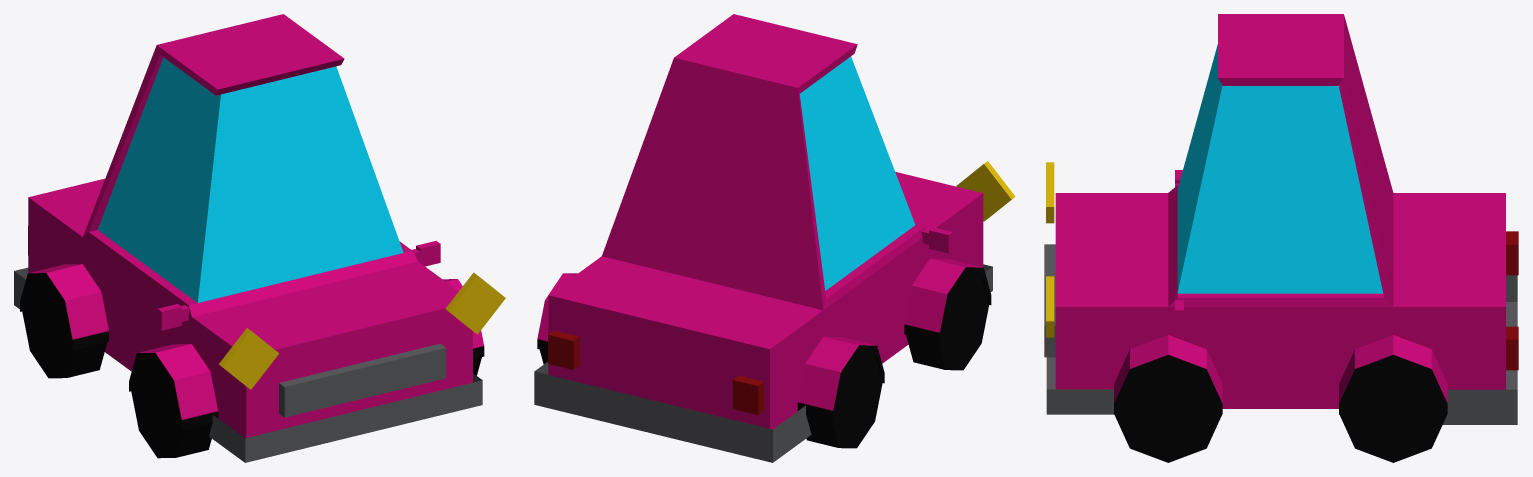
The model's file is car.fbx.
3 views of the same model, side by side, from view 1: azimuth 30°, elevation 25°; view 2: azimuth 150°, elevation 25°; view 3: azimuth 270°, elevation 25° (orthographic). The views are drawn at different scales.
Parts seen in each view (by area): view 1: car; view 2: car; view 3: car.
Boxes of the visible parts, left/top/right/bottom form: car: left=14, top=14, right=505, bottom=462; car: left=534, top=14, right=1015, bottom=462; car: left=1044, top=14, right=1518, bottom=462.
Size of the model in its own units: 320 by 334 by 422.
Materials: 1 (1 with a texture image).
